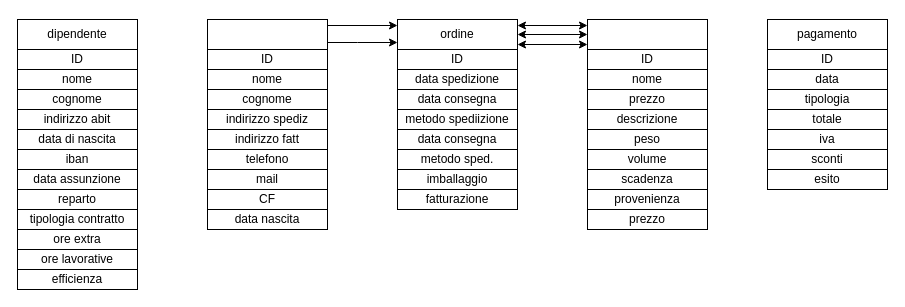
The diagram is 905 pixels wide and 307 high, and some of its shapes have lost their labels. The centre of each missing label's shape, as x and y in pixels:
cliente: (267,34)
prodotto: (647,34)
